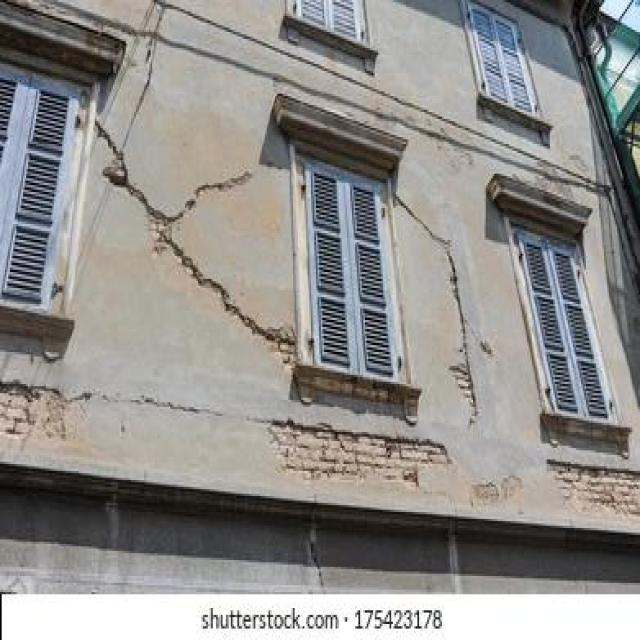damage: (378, 181, 501, 438), (260, 409, 463, 510), (154, 233, 299, 369), (84, 112, 192, 236), (0, 345, 108, 457), (530, 437, 640, 542), (169, 128, 263, 250), (87, 384, 268, 447), (139, 0, 179, 134)
